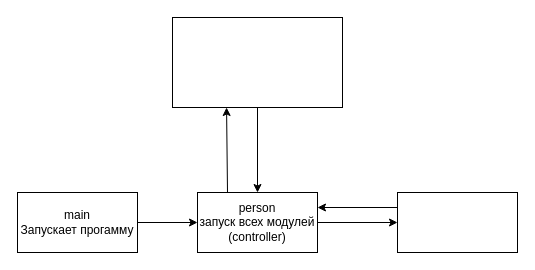
Image size: 535x270. Some labels were removed from this diagram. The centre of each missing label's shape, as x and y in pixels:
"employee_database Изменение БД сотрудников" goes at (x=457, y=222).
"view считыванние данных Запись данных в файл" goes at (x=257, y=62).
